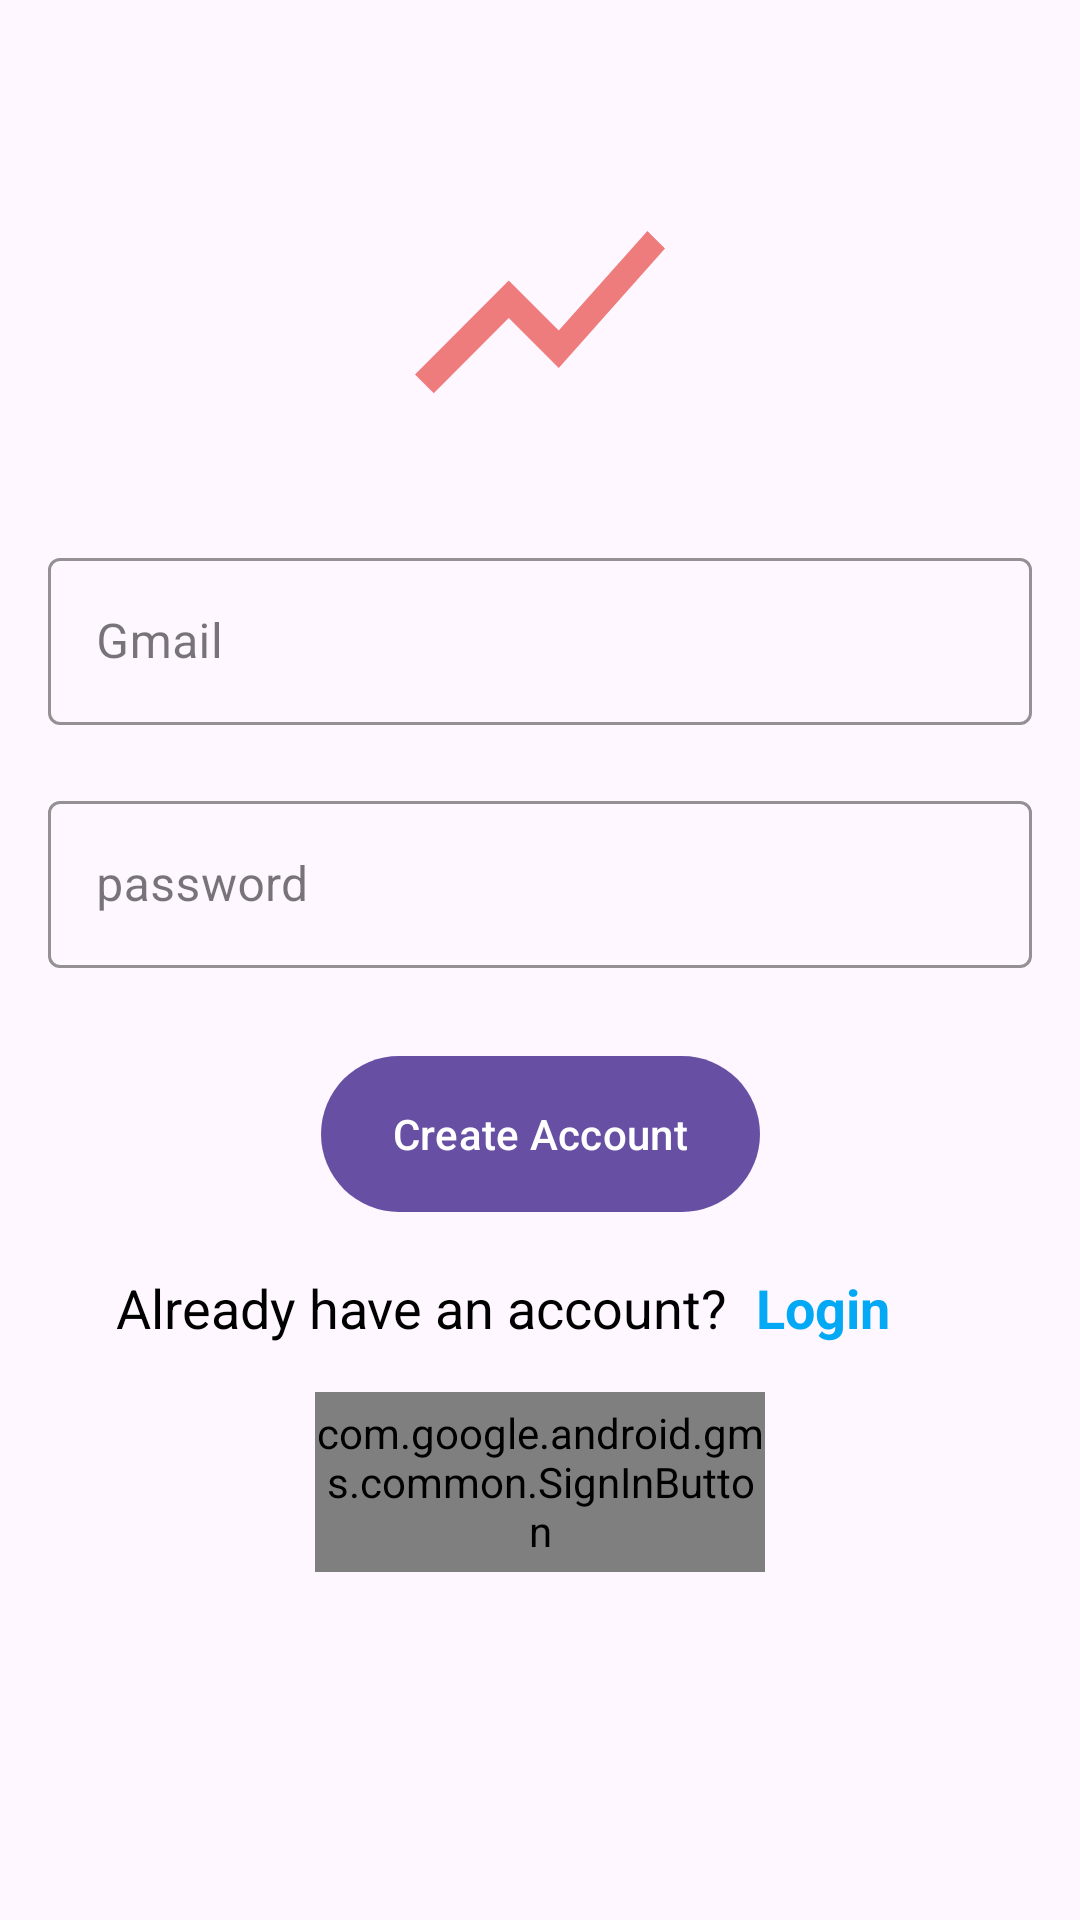

Icons on this 1080x1920 Android screen, each with its box as (x1, y1, x2, y2):
show chart: (415, 231, 665, 393)
